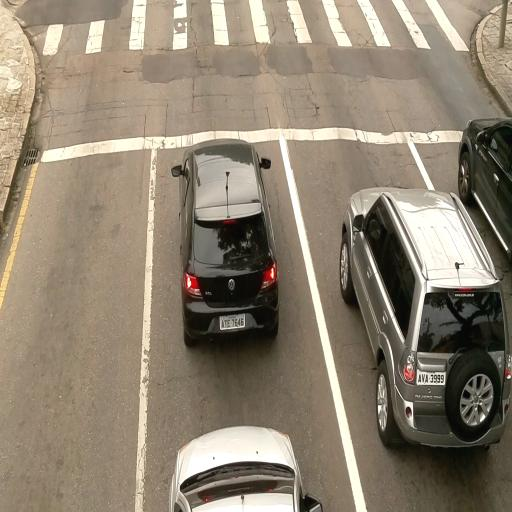car: (338, 186, 507, 446), (172, 134, 285, 348), (167, 426, 322, 511), (458, 116, 512, 278)
